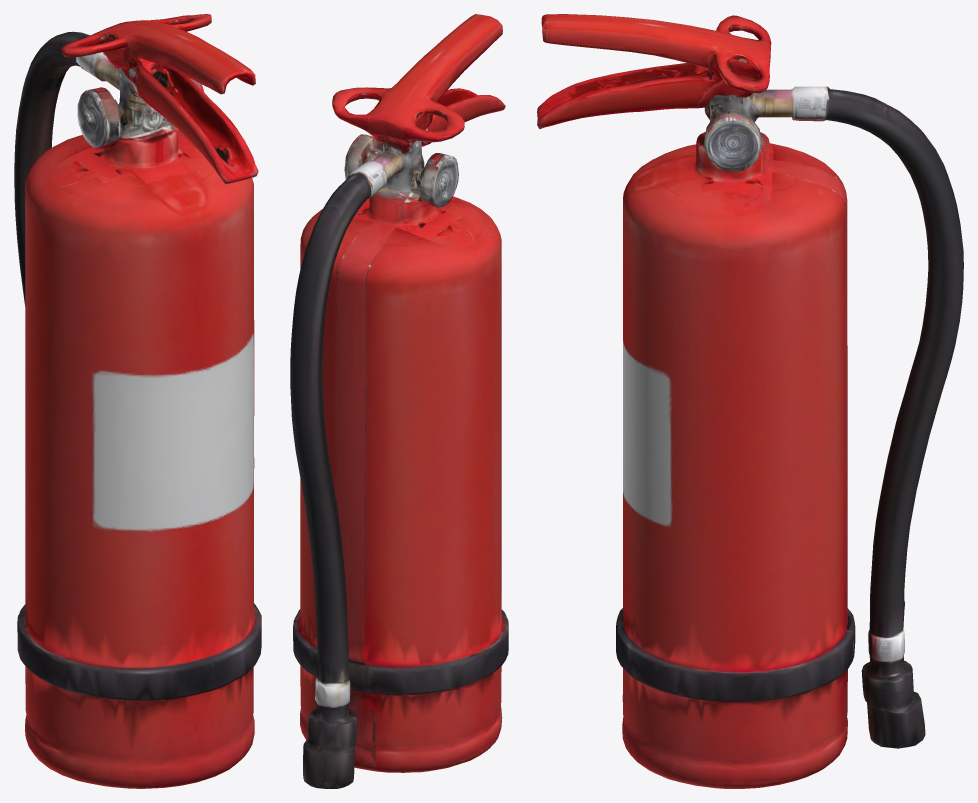
Rendered from fire_extinguisher.glb.
3 views of the same model, side by side, from view 1: azimuth 30°, elevation 25°; view 2: azimuth 150°, elevation 25°; view 3: azimuth 270°, elevation 25° (orthographic). The views are drawn at different scales.
Size of the model in its own units: 0.5944 by 2 by 1.06.
Materials: 1 (1 with a texture image).
